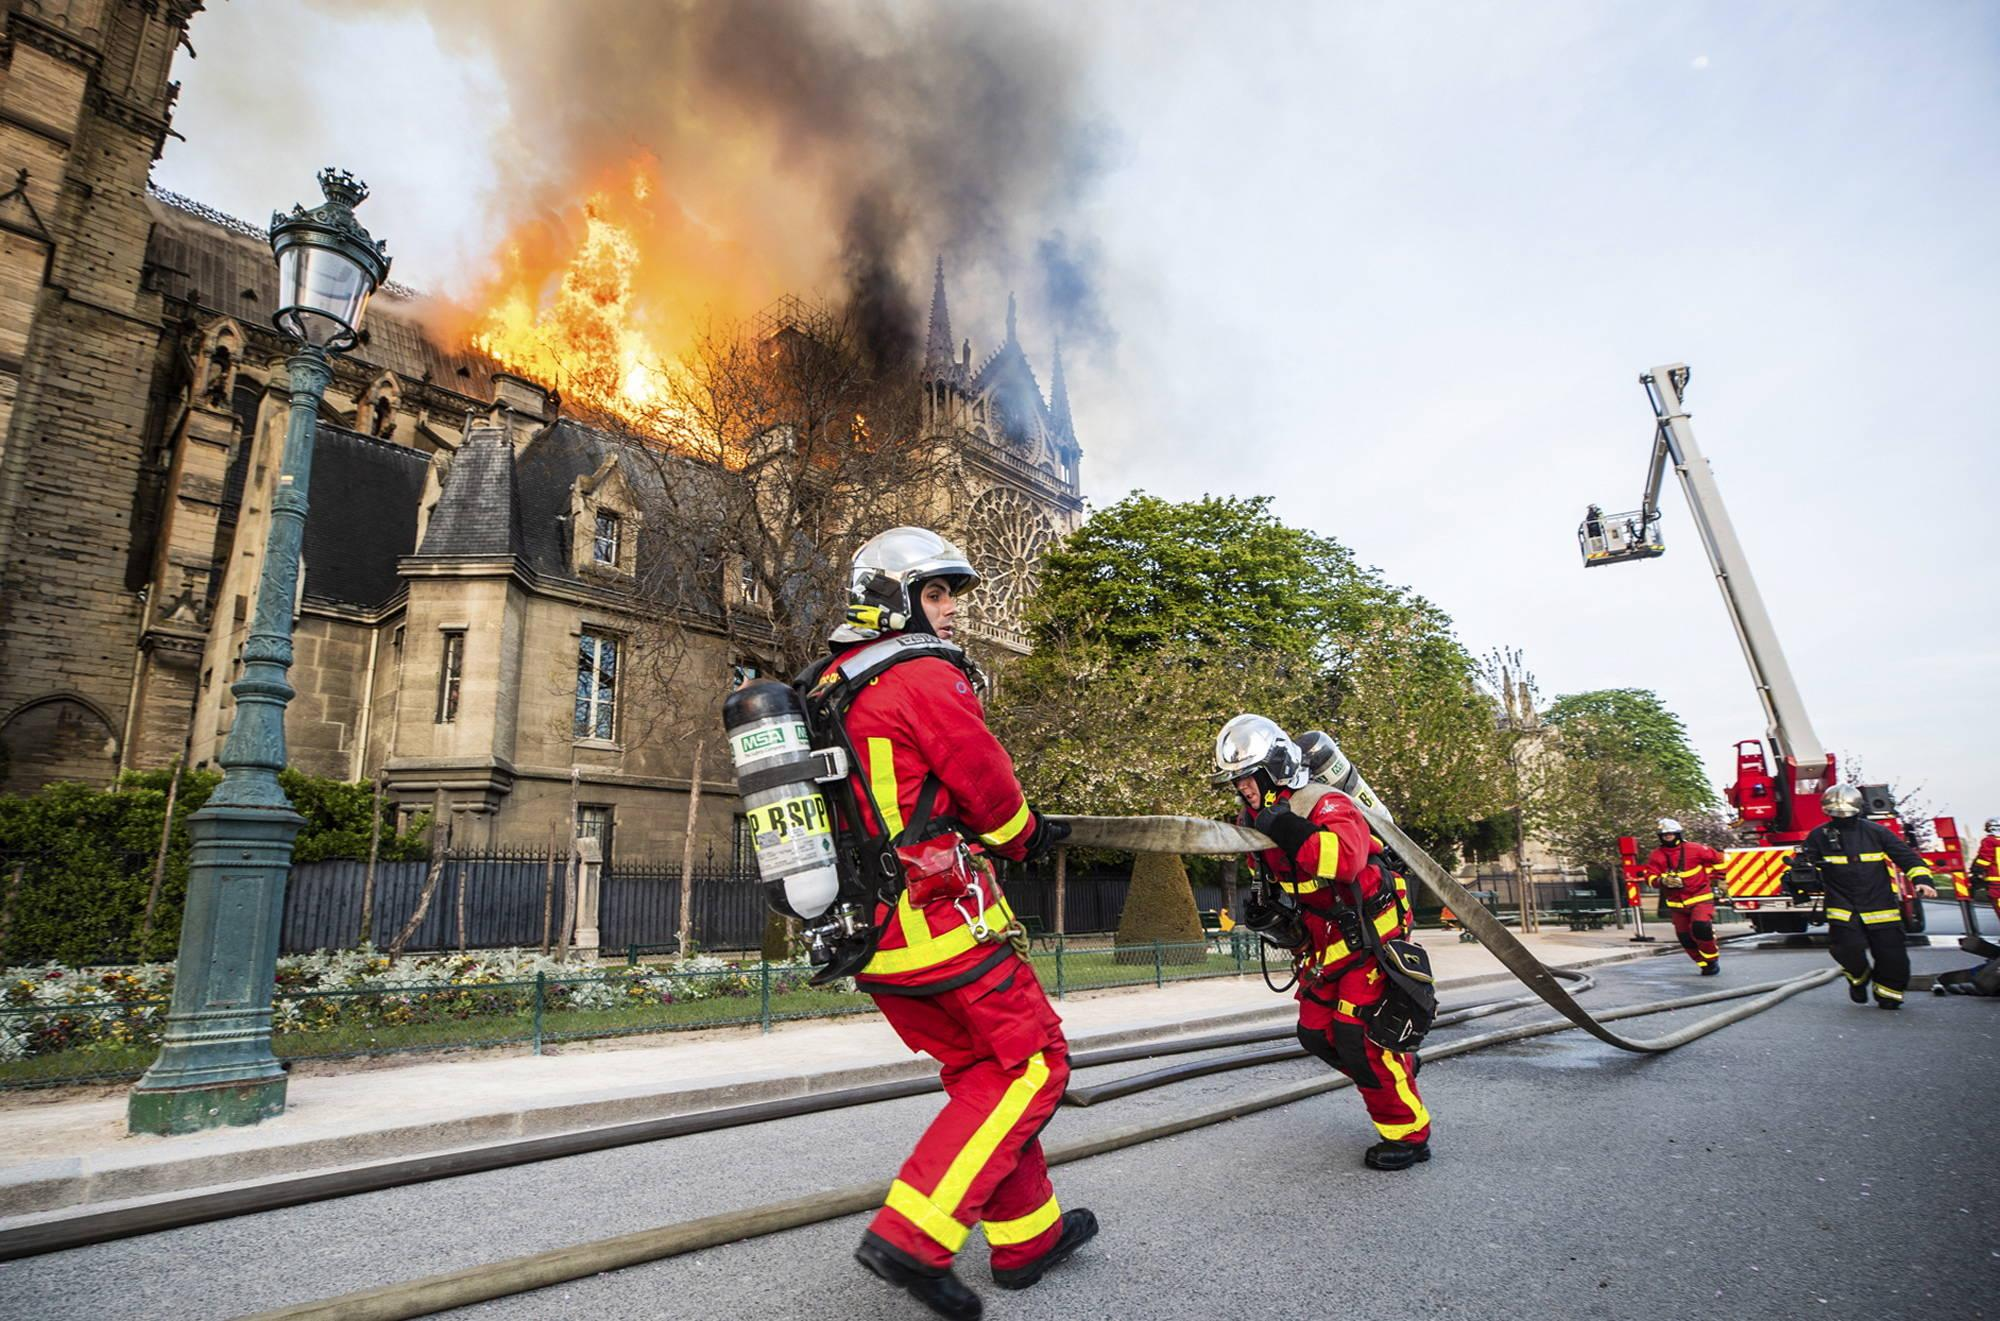Fire: (455, 161, 814, 436)
